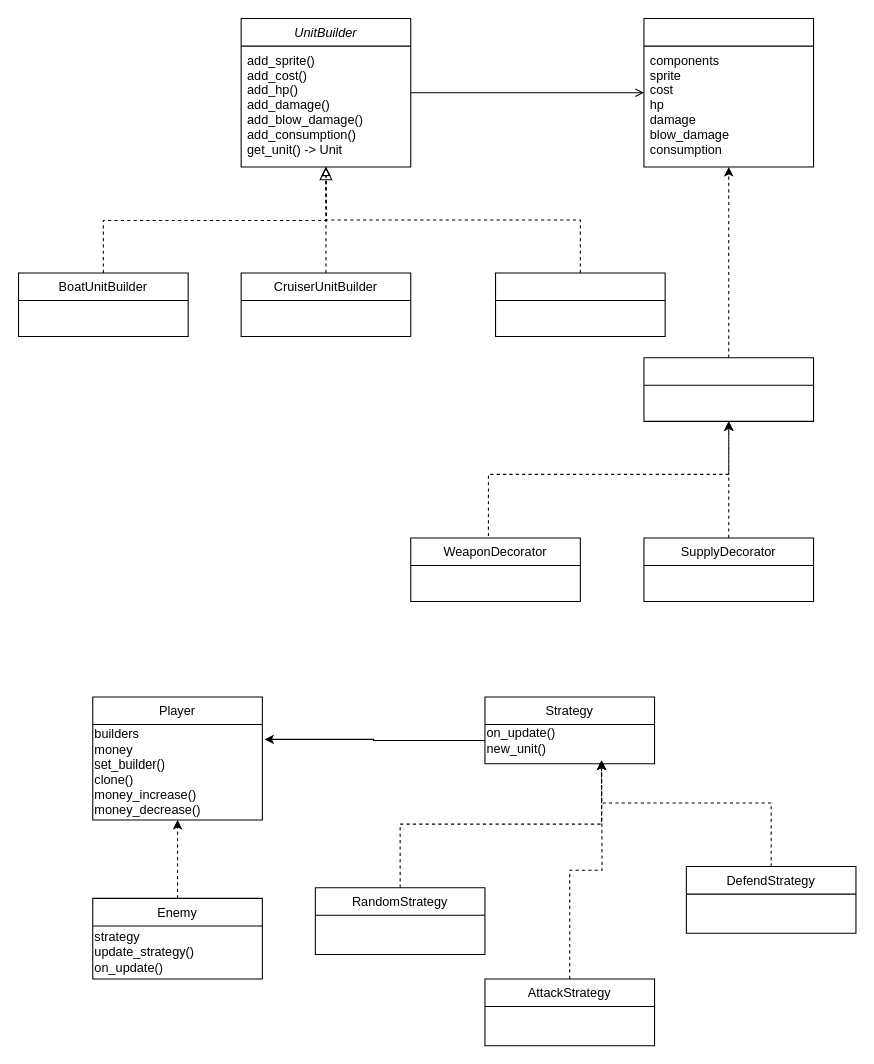
The diagram is 874 pixels wide and 1064 high, and some of its shapes have lost their labels. The shapes that lost their labels are listed below. From the top down, each one's centre as x and y in pixels, then its label:
At [728,92]: "Unit".
At [579,304]: "DestroyerUnitBuilder".
At [728,389]: "Decorator".
